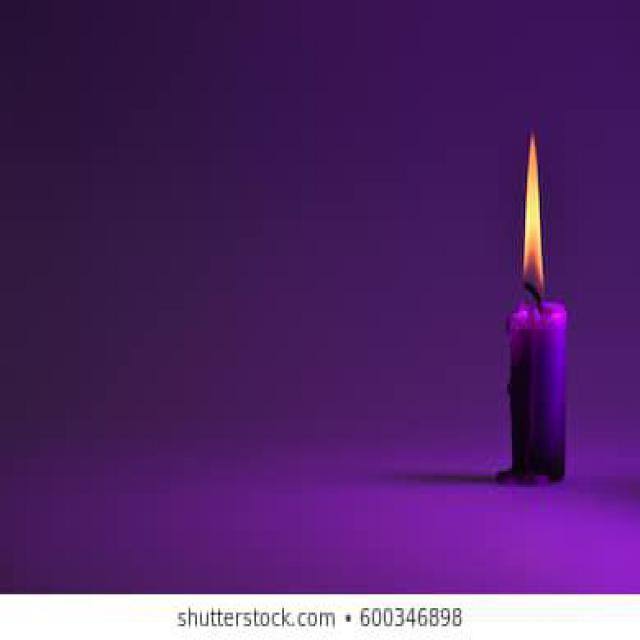Fire: (522, 129, 545, 303)
